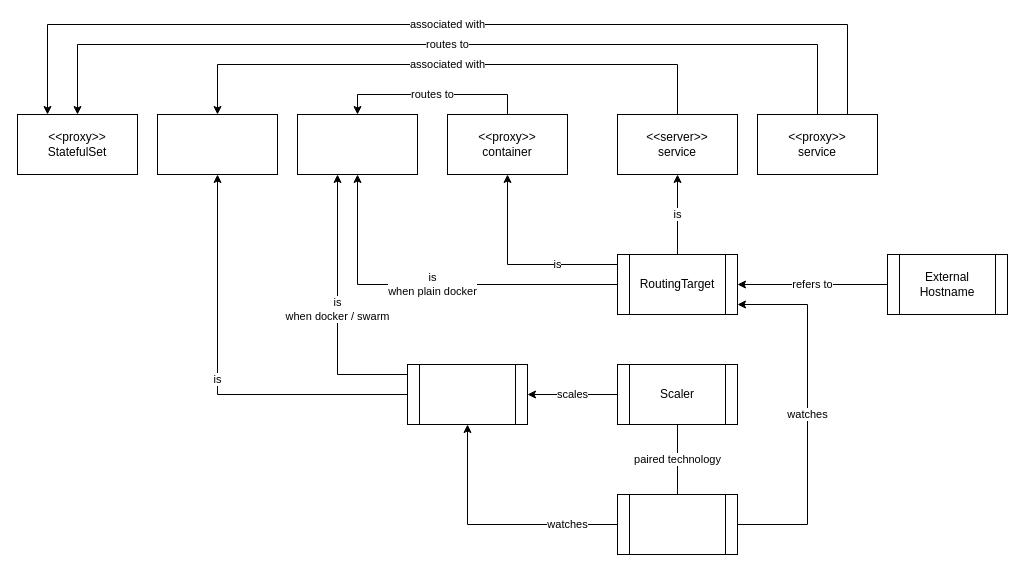
Some shapes in this 1025 by 572 pixel diagram are drawn without their labels. Each missing label, with the centre of its shape:
"<<server>> container" belongs at (x=357, y=144).
"<<server>> StatefulSet" belongs at (x=217, y=144).
"Scalable Entity" belongs at (x=467, y=394).
"Watcher" belongs at (x=677, y=524).
